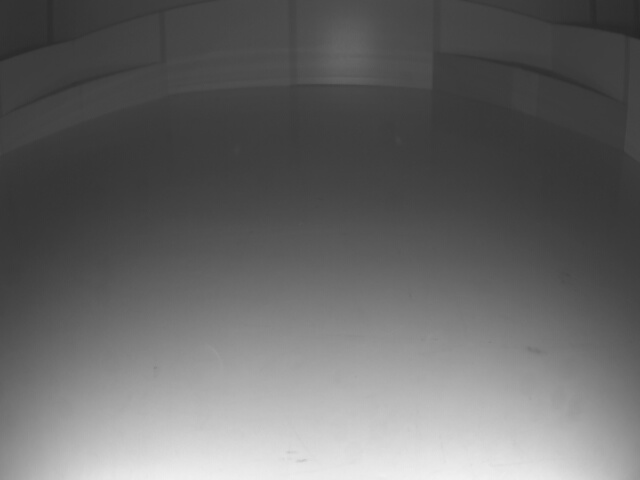Point: (434, 55, 624, 151)
